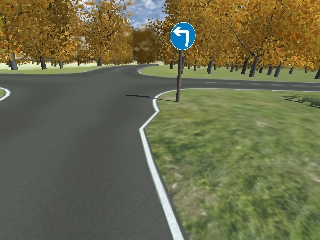left: (172, 21, 196, 50)
